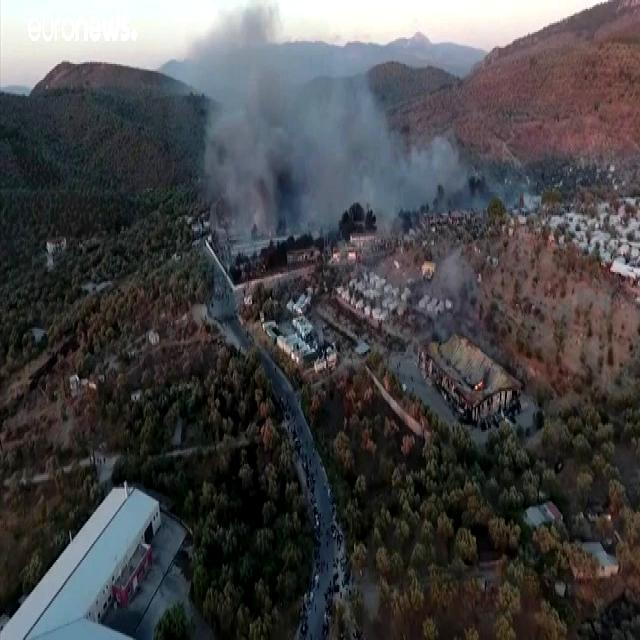Smoke: (197, 24, 378, 237), (370, 126, 464, 224)
